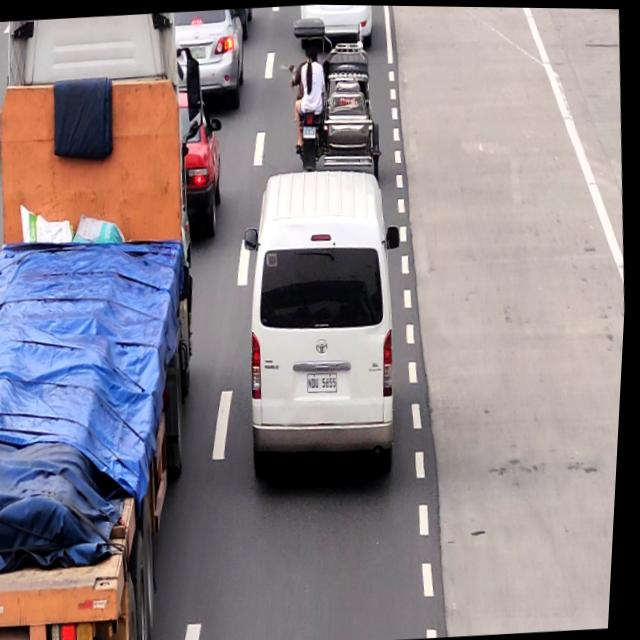Car: (244, 170, 407, 468), (172, 7, 248, 103)
License-Plate: (308, 368, 345, 395), (304, 124, 318, 137)
Tricycle: (290, 15, 386, 174)
Truck: (0, 9, 223, 640)
